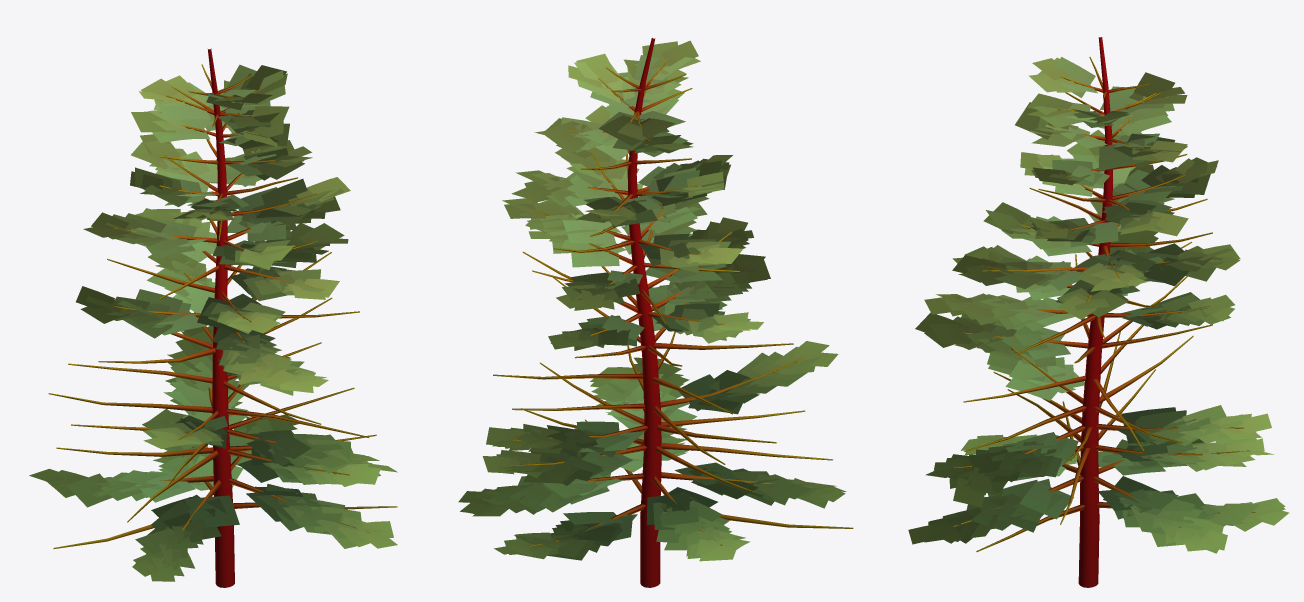
The model's file is young_fir.glb.
3 renders of one model, left to right at view 1: azimuth 30°, elevation 25°; view 2: azimuth 150°, elevation 25°; view 3: azimuth 270°, elevation 25°, orthographic. The views are drawn at different scales.
Parts seen in each view (by area): view 1: LOD0; view 2: LOD0; view 3: LOD0.
Boxes of the visible parts, box(x1,y1,x2,y2) form: LOD0: box(29, 48, 397, 587); LOD0: box(458, 38, 853, 587); LOD0: box(908, 37, 1289, 587).
Size of what is drawn, in the model's own units: 3.67 by 5.12 by 3.19.
